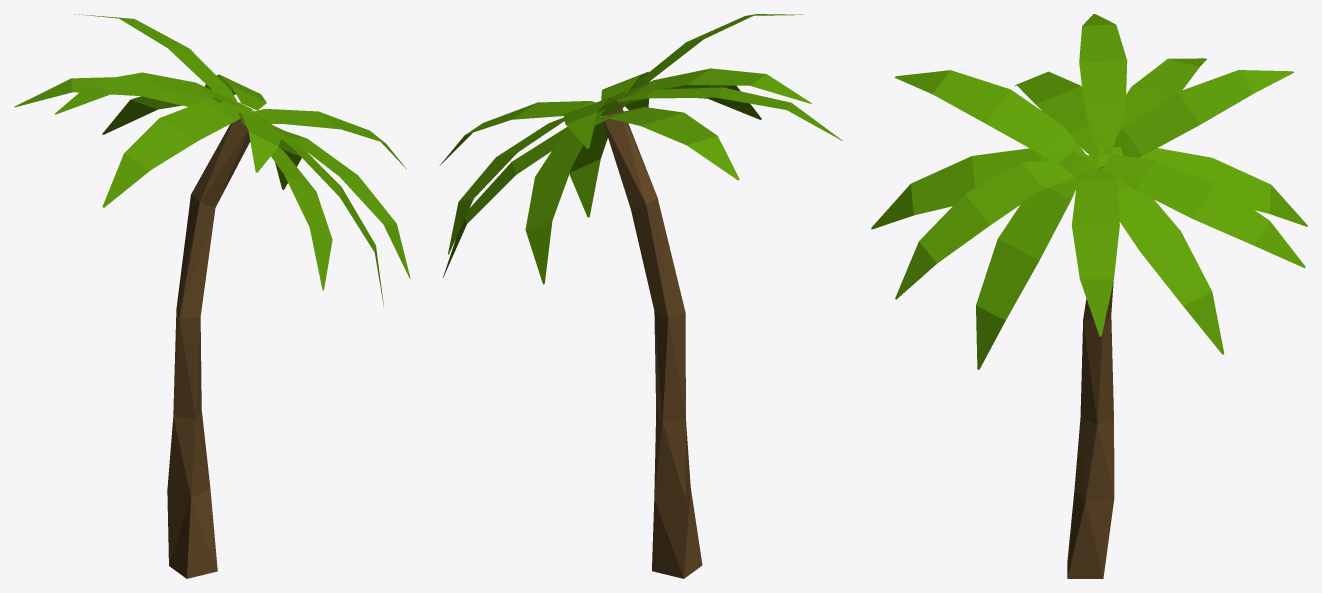
File: trop-rain.average.lightgreen-op1.gltf
3 renders of one model, left to right at view 1: azimuth 30°, elevation 25°; view 2: azimuth 150°, elevation 25°; view 3: azimuth 270°, elevation 25°, orthographic. The views are drawn at different scales.
Visible parts, largest first — view 1: Plane; view 2: Plane; view 3: Plane.
Boxes of the visible parts, x1,y1,x2,y2 form: Plane: (14, 14, 410, 578); Plane: (439, 14, 842, 578); Plane: (871, 14, 1307, 578).
Size of the model in its own units: 0.713 by 0.9534 by 0.7475.
1 material, 1 textured.
